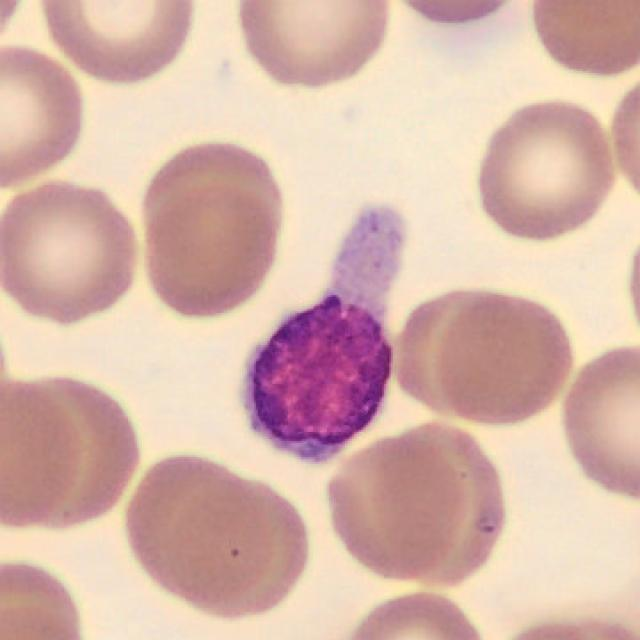Linfocito atipico: (249, 210, 402, 457)
